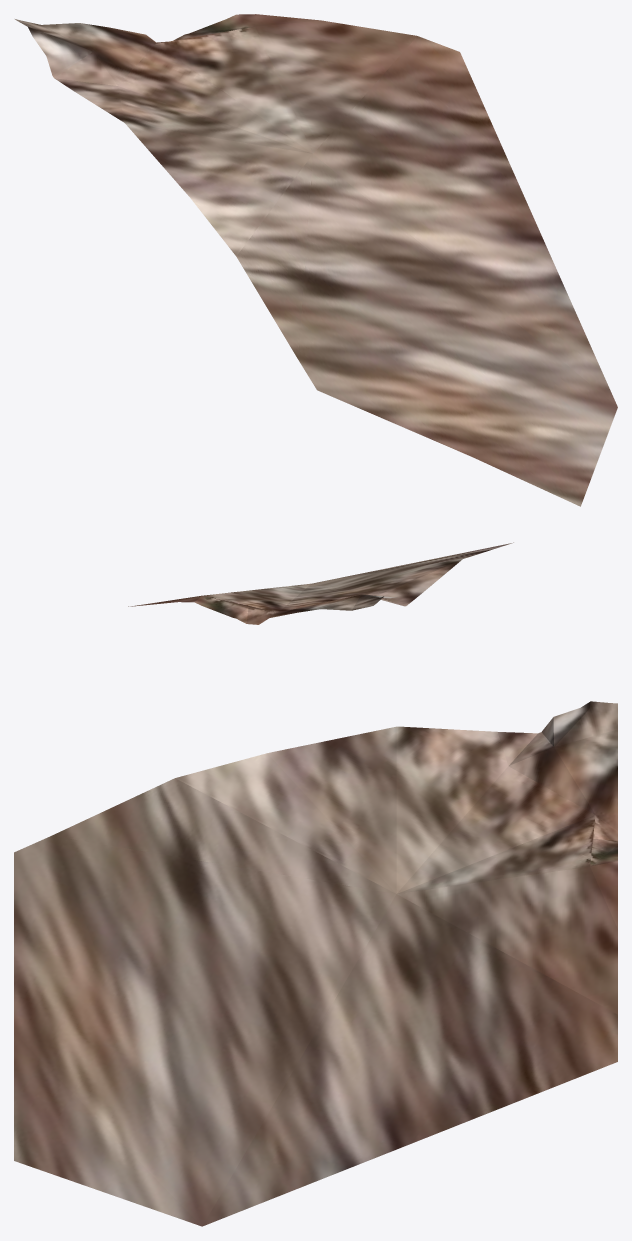
The picture shows the model from 3 angles, top to bottom: view 1: azimuth 30°, elevation 25°; view 2: azimuth 150°, elevation 25°; view 3: azimuth 270°, elevation 25°; orthographic projection. The views are drawn at different scales.
Bounding box in the file's own units: 1.42 × 1.02 × 1.67.
Materials: 3 (3 with a texture image).
